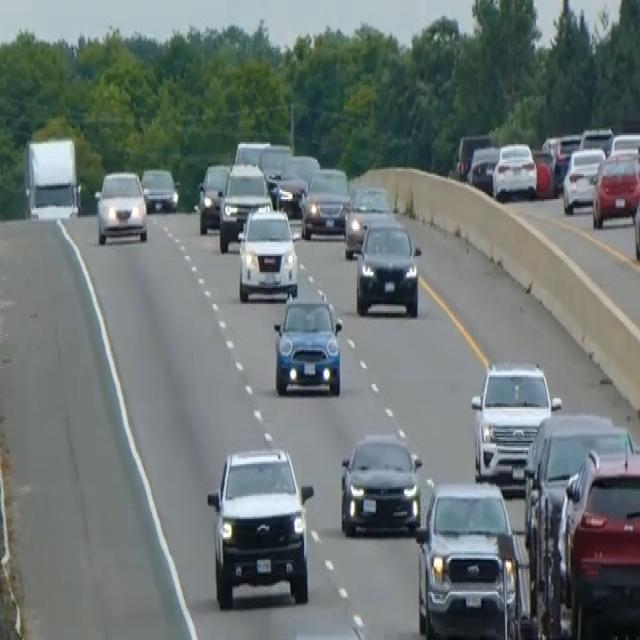car: (522, 409, 635, 590), (414, 478, 531, 638), (556, 444, 639, 638), (470, 357, 561, 487), (339, 430, 423, 537), (272, 292, 343, 396), (354, 218, 421, 316), (236, 205, 299, 302), (218, 160, 273, 252), (94, 167, 148, 244), (591, 146, 639, 228), (300, 164, 351, 240), (343, 183, 393, 258), (562, 144, 605, 213), (491, 140, 537, 201), (274, 153, 320, 213), (196, 160, 230, 233), (456, 130, 493, 180), (140, 166, 179, 213), (467, 144, 499, 194), (258, 142, 292, 183), (531, 144, 556, 197), (234, 137, 270, 167), (578, 124, 613, 154), (609, 130, 639, 160), (632, 172, 639, 265)
jeep: (204, 441, 315, 610)
lorry: (22, 134, 82, 220)
